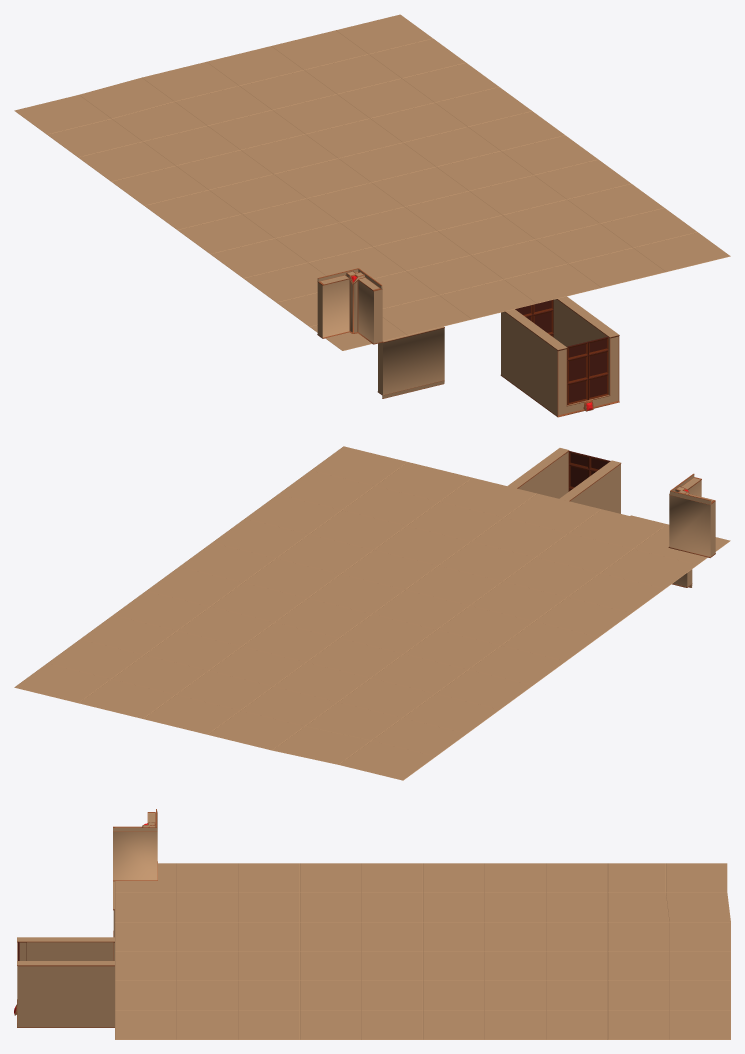
3 renders of one model, top to bottom at view 1: azimuth 30°, elevation 25°; view 2: azimuth 150°, elevation 25°; view 3: azimuth 270°, elevation 25°, orthographic. The views are drawn at different scales.
Parts seen in each view (by area): view 1: Plane002, Box028, ParedecURVA003, Box035, Box031, Box032; view 2: Plane002, Box028, ParedecURVA003, Box032; view 3: Plane002, Box028, ParedecURVA003.
Part boxes in pixels (bbox=[...]): Plane002: bbox=[14, 14, 730, 350]; Box028: bbox=[500, 296, 619, 417]; ParedecURVA003: bbox=[317, 268, 383, 344]; Box035: bbox=[377, 326, 444, 398]; Box031: bbox=[567, 341, 587, 404]; Box032: bbox=[588, 336, 608, 399]; Plane002: bbox=[14, 446, 730, 780]; Box028: bbox=[507, 448, 621, 513]; ParedecURVA003: bbox=[668, 473, 715, 557]; Box032: bbox=[568, 451, 589, 491]; Plane002: bbox=[115, 863, 730, 1039]; Box028: bbox=[17, 937, 114, 1027]; ParedecURVA003: bbox=[113, 809, 157, 881].
Bounding box in the file's own units: 1139 × 358 × 1943.
